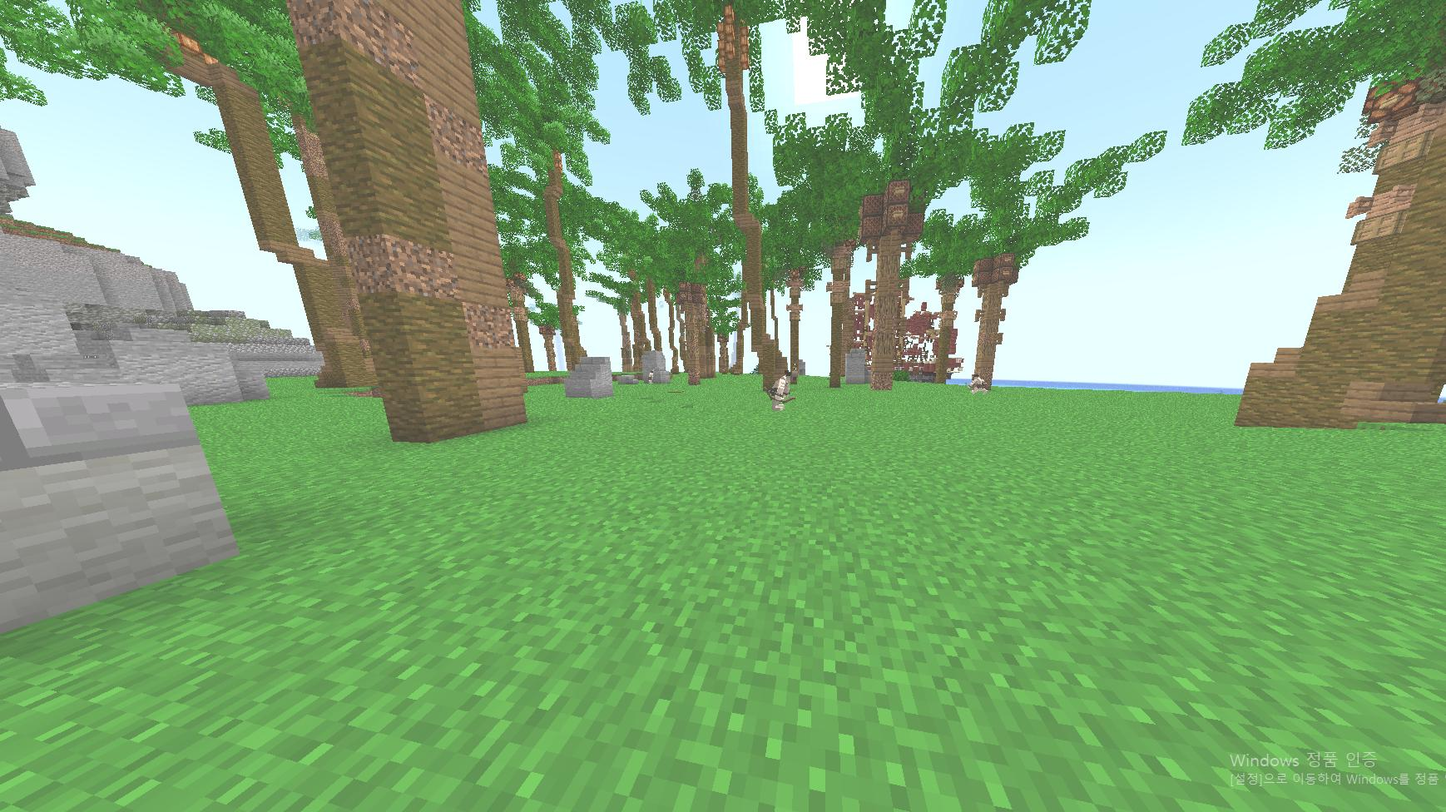bow_indian: (760, 365, 804, 421)
